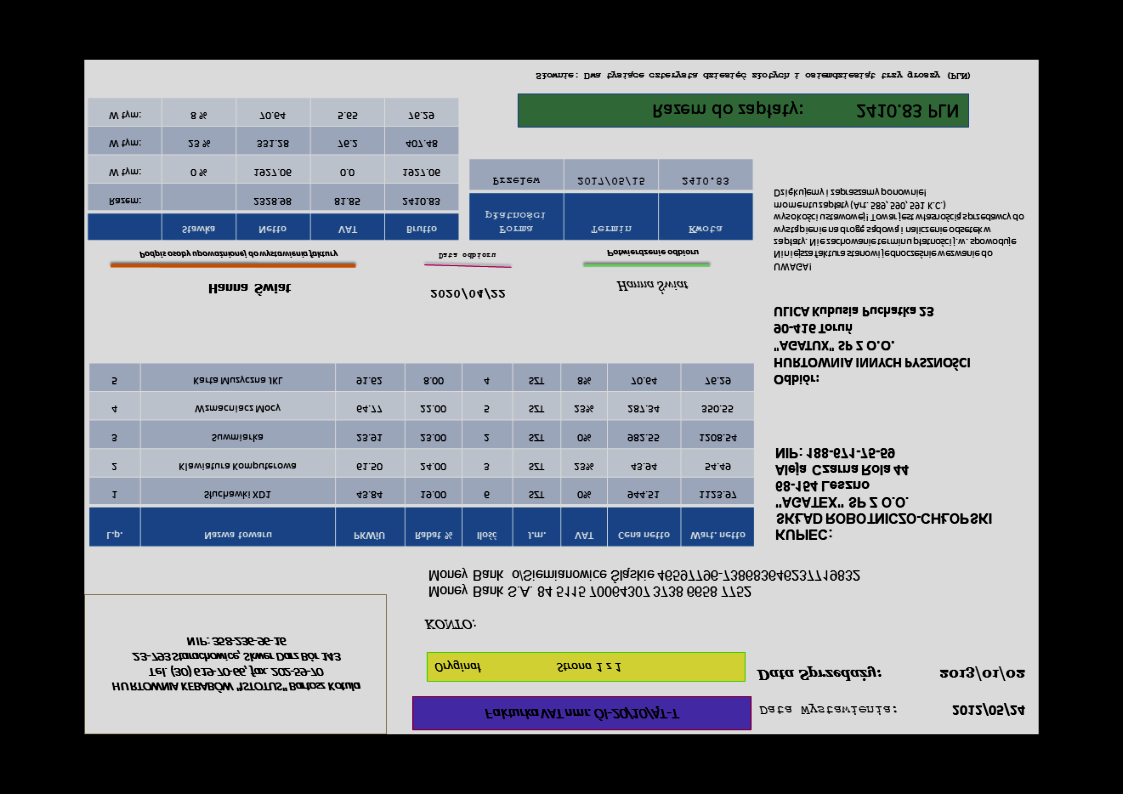Table: (88, 361, 757, 548), (85, 96, 462, 243), (468, 157, 753, 242)
TextBox: (770, 185, 1027, 275), (772, 445, 994, 545), (771, 303, 972, 389), (426, 566, 863, 604), (109, 633, 363, 694), (649, 99, 961, 124), (534, 67, 972, 84), (431, 657, 624, 677), (480, 706, 683, 723), (137, 248, 343, 262), (756, 662, 884, 684), (756, 701, 899, 717), (938, 664, 1030, 683), (427, 284, 508, 304), (204, 281, 294, 298), (949, 700, 1029, 719), (615, 278, 691, 296), (603, 247, 701, 259), (422, 616, 479, 635), (436, 251, 498, 263)
